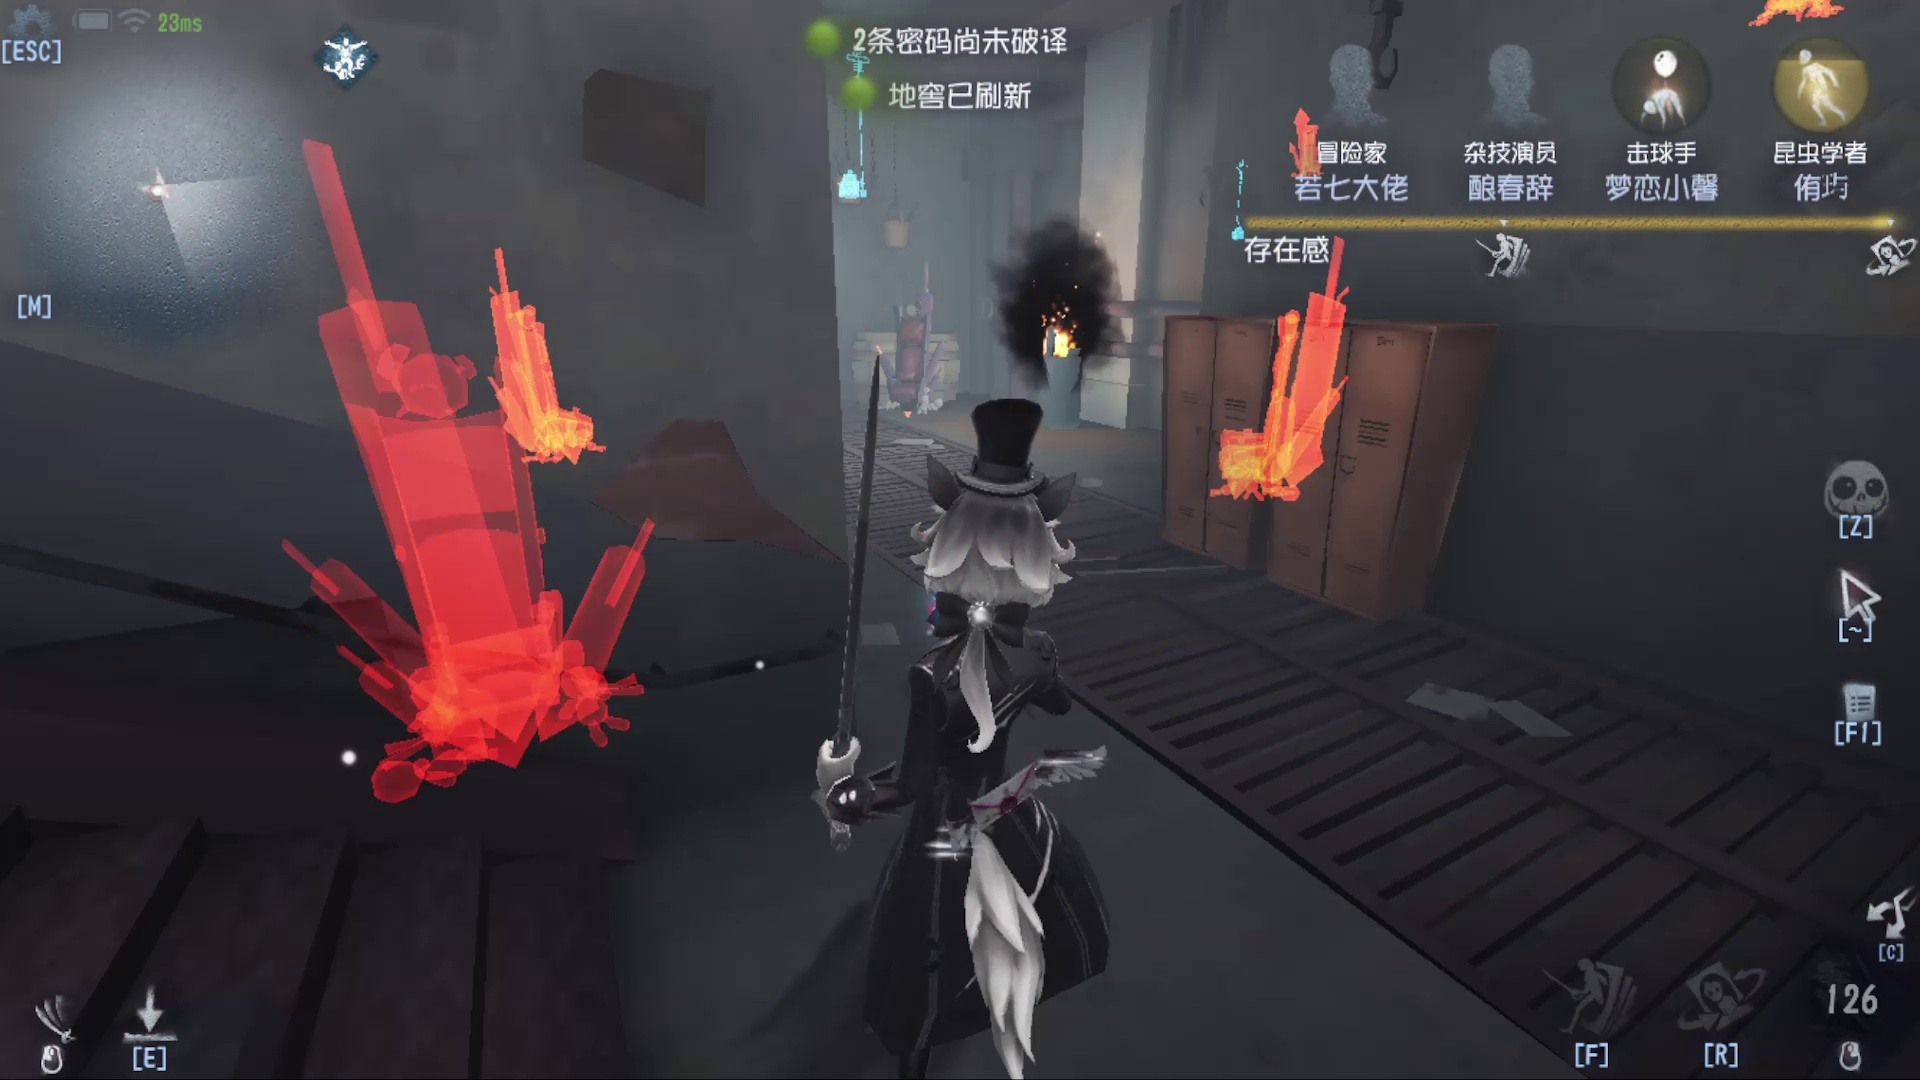狂欢之椅: (260, 133, 637, 777), (1164, 203, 1379, 531)
